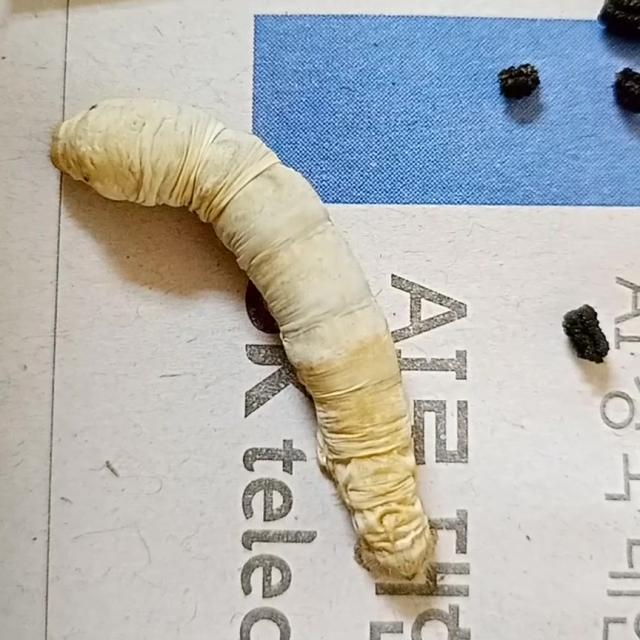Grasserie: (47, 82, 451, 595)
